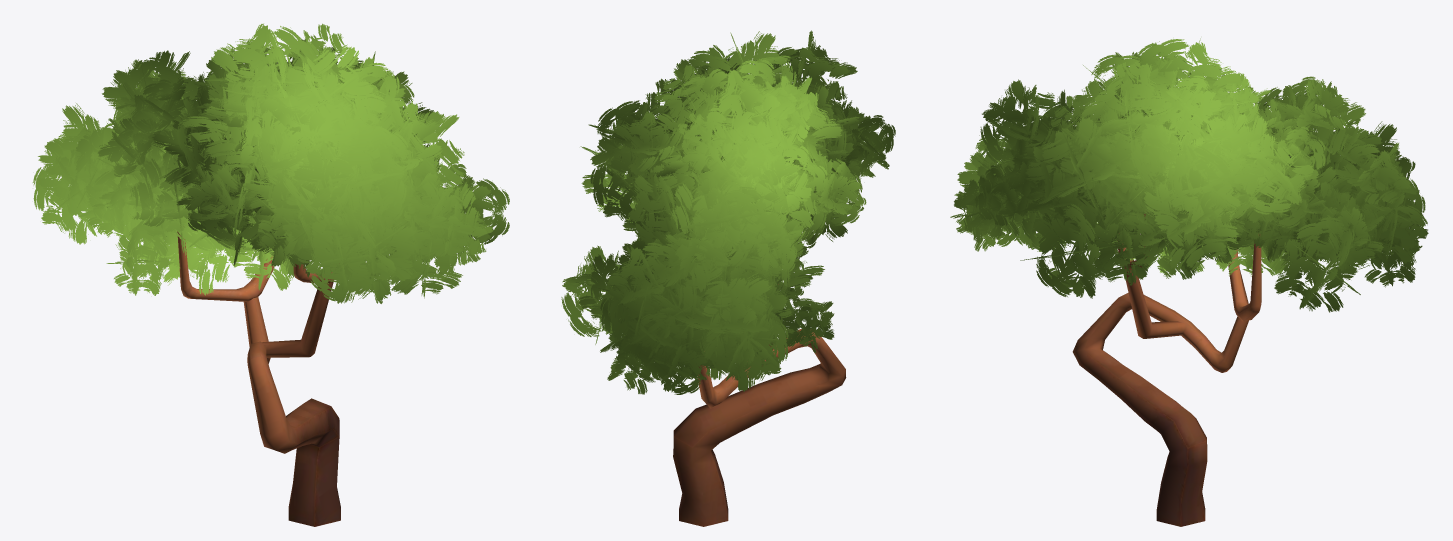
Rendered from STSwiggly2.glb.
3 views of the same model, side by side, from view 1: azimuth 30°, elevation 25°; view 2: azimuth 150°, elevation 25°; view 3: azimuth 270°, elevation 25° (orthographic). The views are drawn at different scales.
Visible parts, largest first — view 1: STSwiggly2_Leaves, STSwiggly2_Trunk; view 2: STSwiggly2_Leaves, STSwiggly2_Trunk; view 3: STSwiggly2_Leaves, STSwiggly2_Trunk.
Boxes of the visible parts, bbox=[...] form: STSwiggly2_Leaves: bbox=[32, 23, 509, 303]; STSwiggly2_Trunk: bbox=[177, 231, 340, 526]; STSwiggly2_Leaves: bbox=[561, 30, 895, 394]; STSwiggly2_Trunk: bbox=[673, 284, 846, 526]; STSwiggly2_Leaves: bbox=[950, 38, 1428, 312]; STSwiggly2_Trunk: bbox=[1072, 214, 1261, 526].
Bounding box in the file's own units: 4.52 × 6.58 × 6.34.
2 materials, 2 textured.
